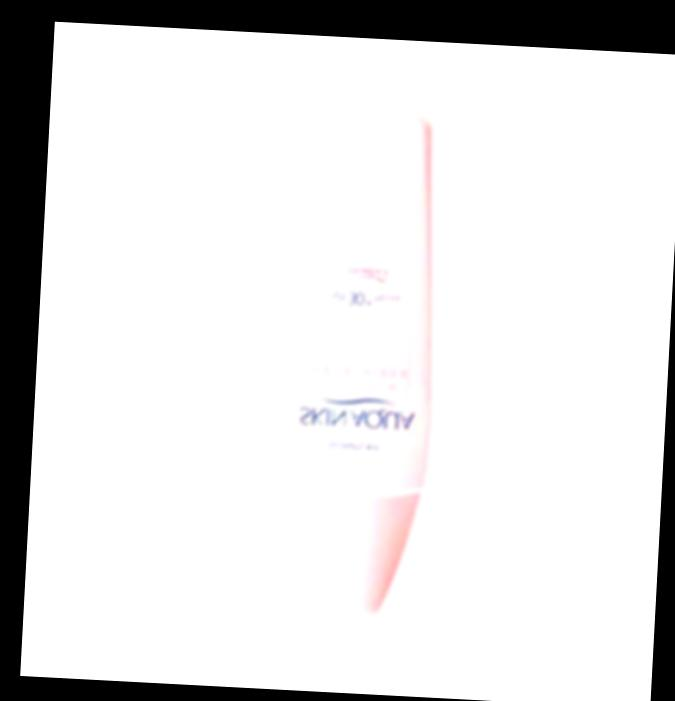cosmetic: (273, 103, 445, 623)
